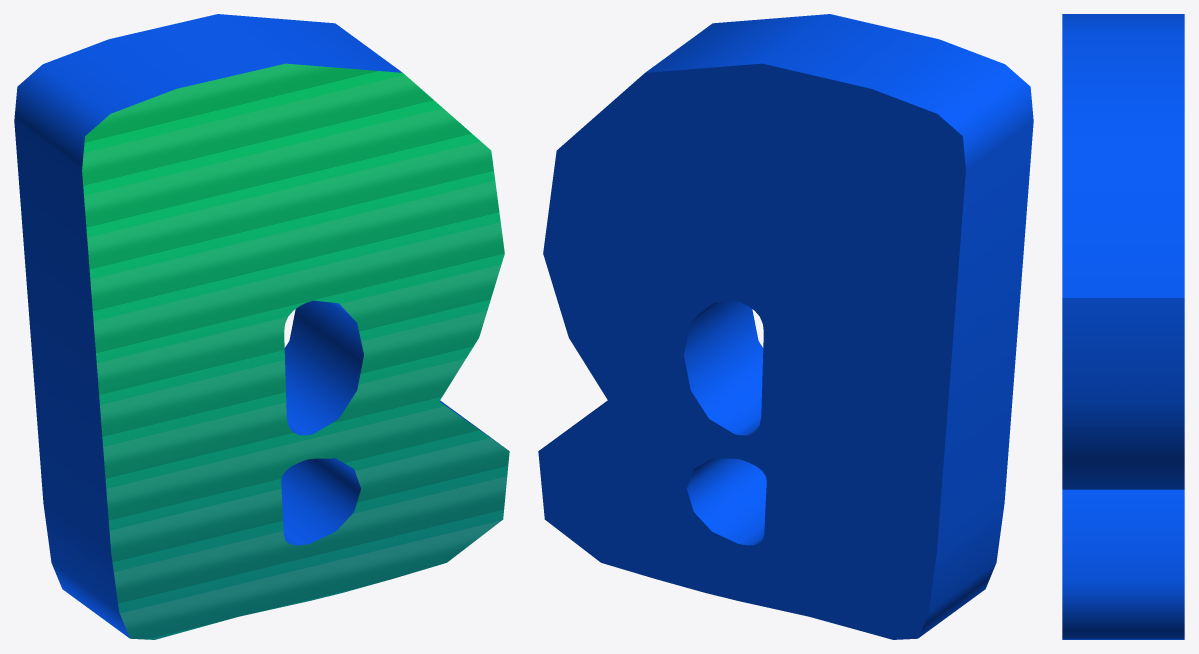
The picture shows the model from 3 angles, left to right: view 1: azimuth 30°, elevation 25°; view 2: azimuth 150°, elevation 25°; view 3: azimuth 270°, elevation 25°; orthographic projection. The views are drawn at different scales.
Visible parts, largest first — view 1: B; view 2: B; view 3: B.
Part boxes in pixels (x1,y1,x2,y2): B: (14, 14, 509, 639); B: (538, 14, 1033, 639); B: (1062, 14, 1184, 639).
Size of the model in its own units: 72.87 by 88.88 by 20.
Materials: 2 (1 with a texture image).
